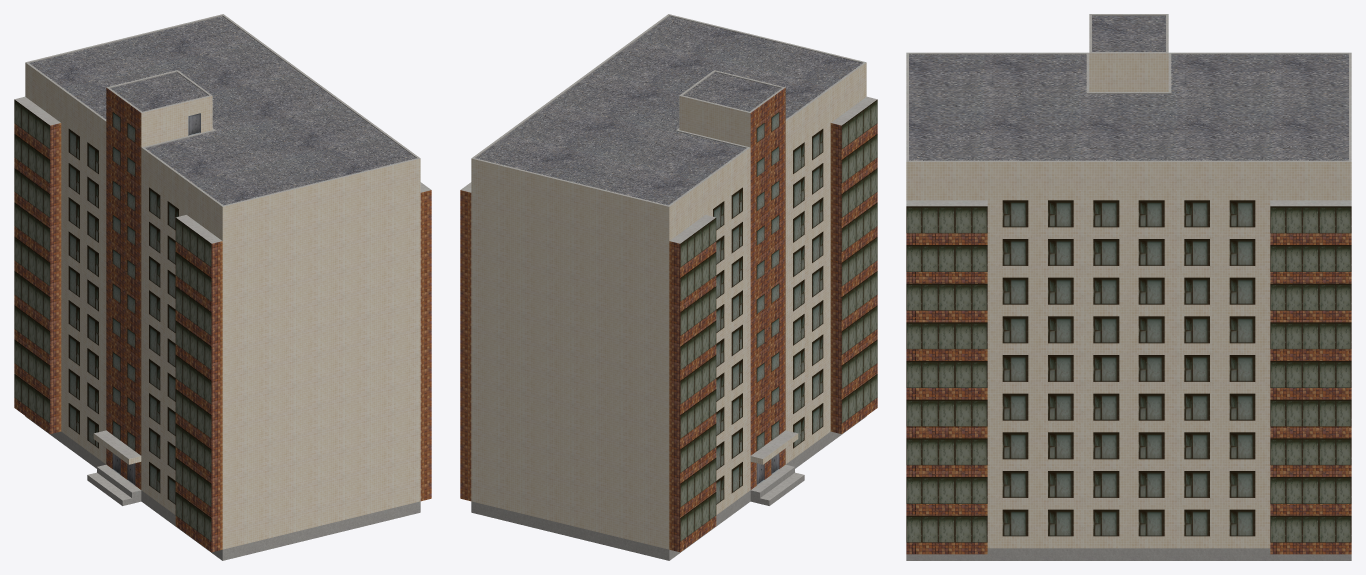
File: 9-floor_pannel_building.glb
3 renders of one model, left to right at view 1: azimuth 30°, elevation 25°; view 2: azimuth 150°, elevation 25°; view 3: azimuth 270°, elevation 25°, orthographic. The views are drawn at different scales.
Visible parts, largest first — view 1: Cube.016; view 2: Cube.016; view 3: Cube.016.
Boxes of the visible parts, x1,y1,x2,y2 form: Cube.016: [14, 14, 431, 560]; Cube.016: [460, 14, 877, 560]; Cube.016: [906, 14, 1351, 560].
Bounding box in the file's own units: 19.75 × 32.16 × 29.62.
Materials: 6 (6 with a texture image).
